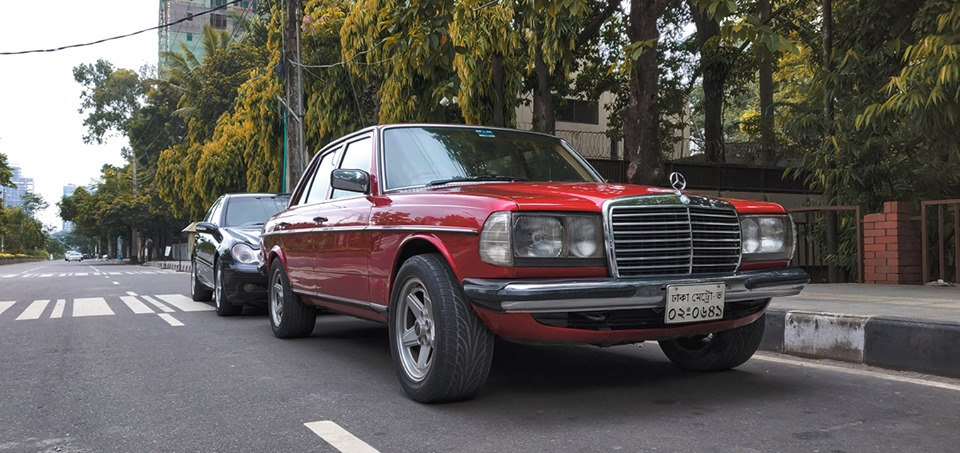registration_plate: (664, 281, 726, 324)
